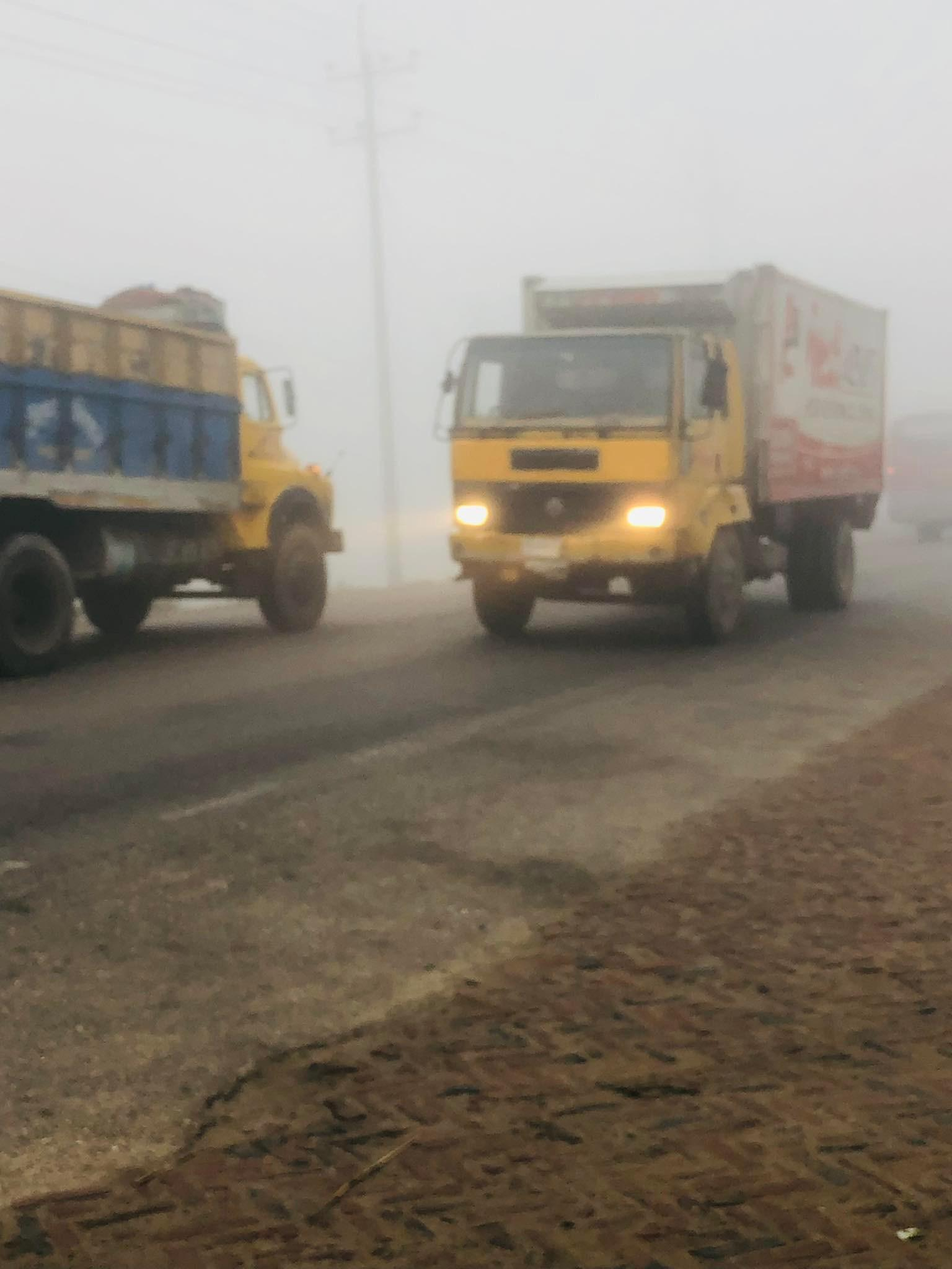Truck: (433, 251, 900, 648), (7, 256, 377, 661)
